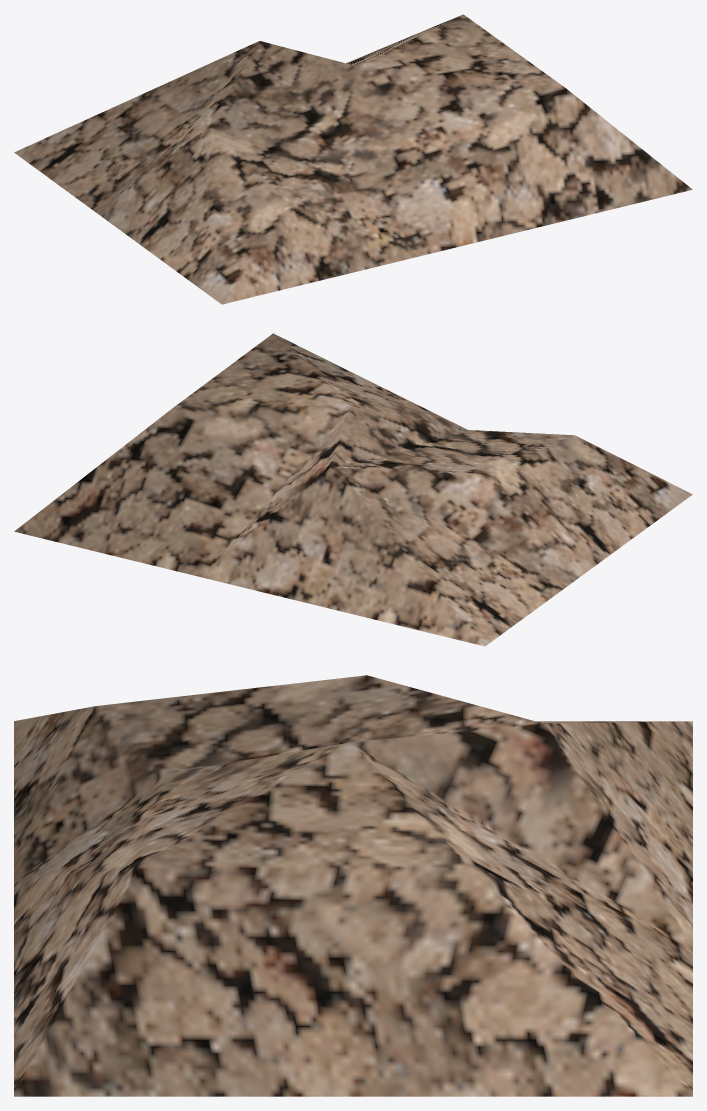
The model's file is Gravel_01.fbx.
3 views of the same model, one above another, from view 1: azimuth 30°, elevation 25°; view 2: azimuth 150°, elevation 25°; view 3: azimuth 270°, elevation 25° (orthographic). The views are drawn at different scales.
Parts seen in each view (by area): view 1: Gravel_01; view 2: Gravel_01; view 3: Gravel_01.
Part boxes in pixels (x1,y1,x2,y2): Gravel_01: (14, 14, 692, 304); Gravel_01: (14, 333, 692, 646); Gravel_01: (14, 675, 692, 1096).
Size of the model in its own units: 156 by 32.87 by 119.
